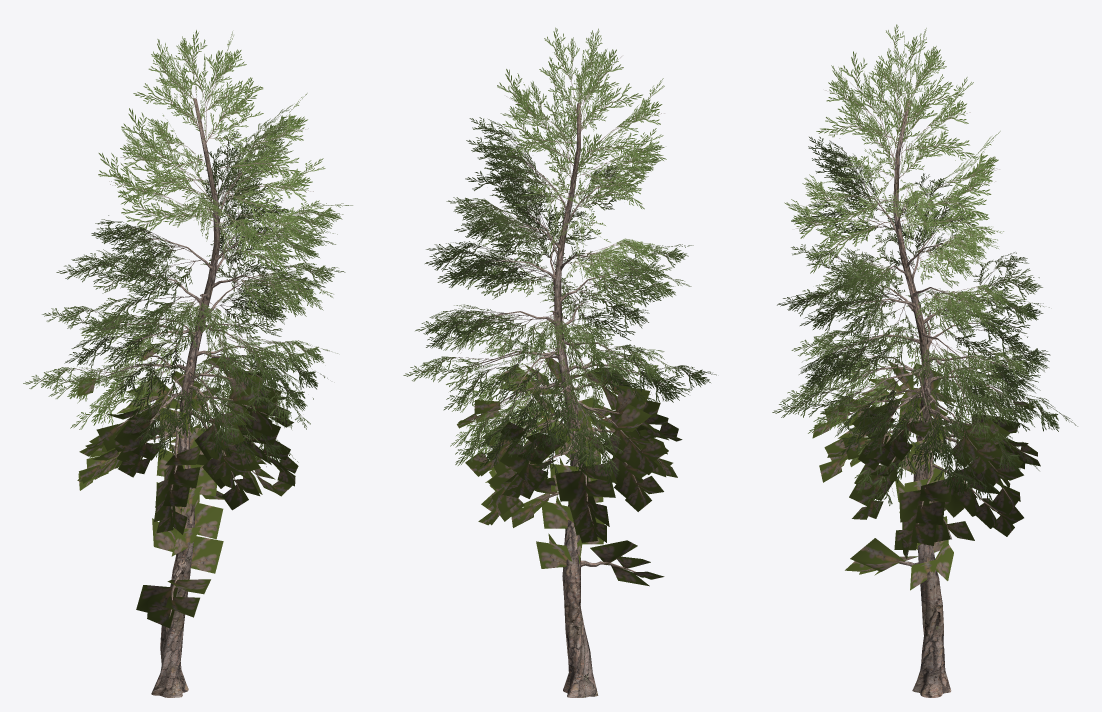
Rendered from spruce.fbx.
3 renders of one model, left to right at view 1: azimuth 30°, elevation 25°; view 2: azimuth 150°, elevation 25°; view 3: azimuth 270°, elevation 25°, orthographic. The views are drawn at different scales.
Visible parts, largest first — view 1: Tree_0; view 2: Tree_0; view 3: Tree_0.
Boxes of the visible parts, bbox=[...] form: Tree_0: bbox=[23, 30, 352, 697]; Tree_0: bbox=[403, 27, 716, 697]; Tree_0: bbox=[772, 24, 1077, 697].
Bounding box in the file's own units: 779 × 811 × 1854.
Materials: 3 (3 with a texture image).
